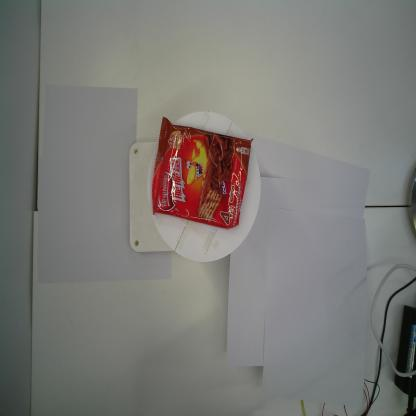Dessert: (151, 115, 254, 230)
